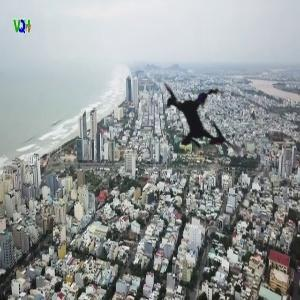drone: (125, 46, 276, 197)
